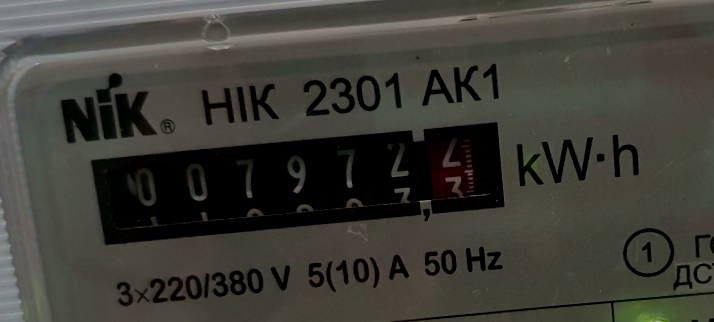0: (131, 163, 160, 207), (182, 158, 210, 202)
2: (385, 139, 411, 179), (436, 134, 462, 170)
3: (441, 171, 465, 198)
7: (332, 144, 362, 191), (232, 154, 260, 200)
9: (283, 150, 308, 195)
screen: (73, 107, 523, 260)
